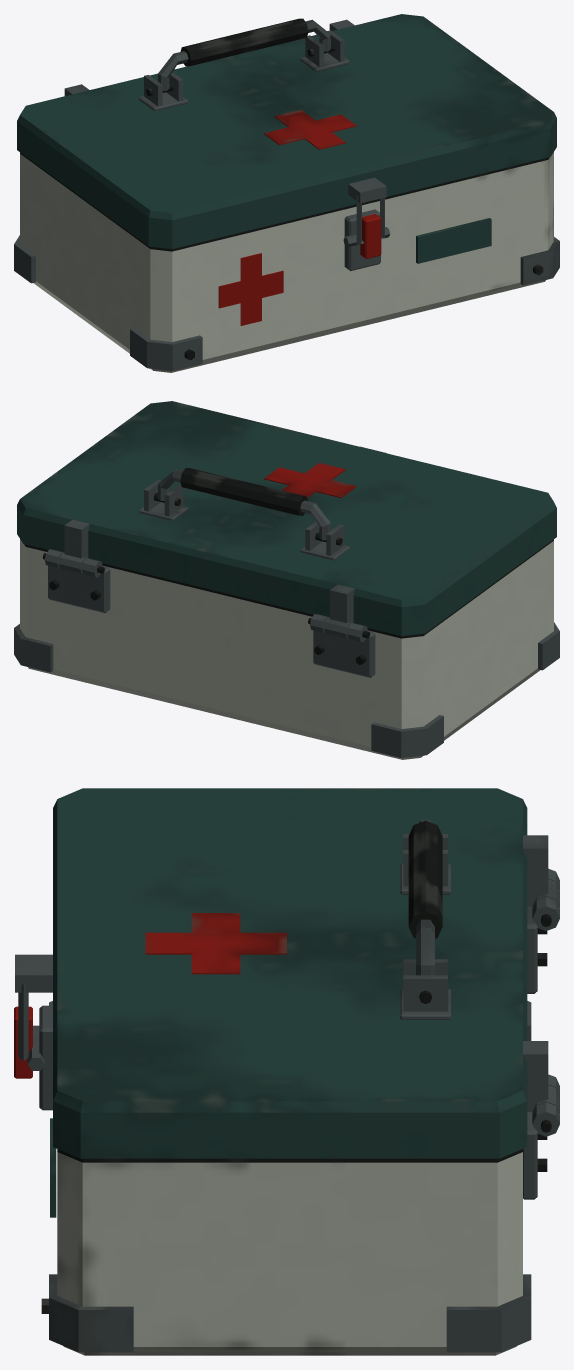
Rendered from medical_box.glb.
3 views of the same model, one above another, from view 1: azimuth 30°, elevation 25°; view 2: azimuth 150°, elevation 25°; view 3: azimuth 270°, elevation 25° (orthographic). The views are drawn at different scales.
Visible parts, largest first — view 1: MedicalLid, MedicalBody, MedicalHandle, MedicalLatch; view 2: MedicalLid, MedicalBody, MedicalHandle; view 3: MedicalLid, MedicalBody, MedicalHandle, MedicalLatch.
Part boxes in pixels (x1,y1,x2,y2): MedicalLid: (17, 14, 556, 251); MedicalBody: (14, 152, 559, 372); MedicalHandle: (158, 18, 330, 90); MedicalLatch: (356, 196, 384, 258); MedicalLid: (17, 401, 556, 638); MedicalBody: (14, 539, 559, 759); MedicalHandle: (157, 468, 330, 540); MedicalLid: (15, 788, 559, 1162); MedicalBody: (27, 868, 559, 1355); MedicalHandle: (408, 820, 442, 975); MedicalLatch: (14, 983, 32, 1078).
Size of what is drawn, in the model's own units: 0.358 by 0.18 by 0.258.
1 material, 1 textured.
